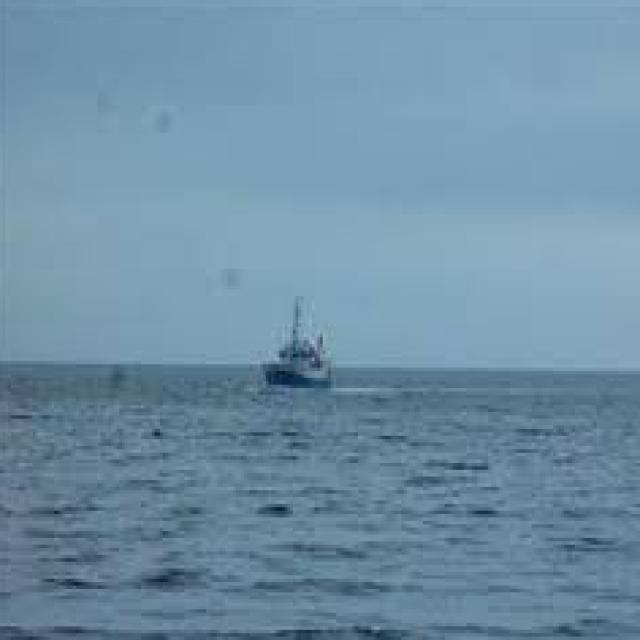fishing boat: (252, 306, 341, 396)
